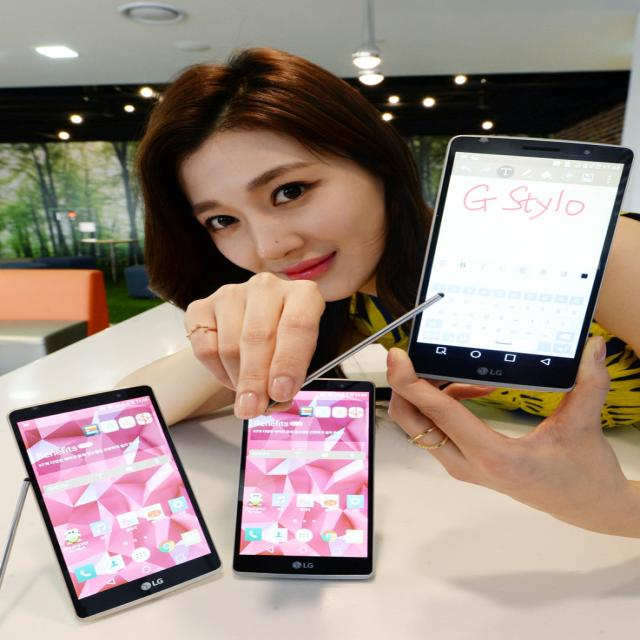Mobile-phone: (406, 136, 632, 388), (4, 382, 223, 622), (230, 378, 374, 578)
